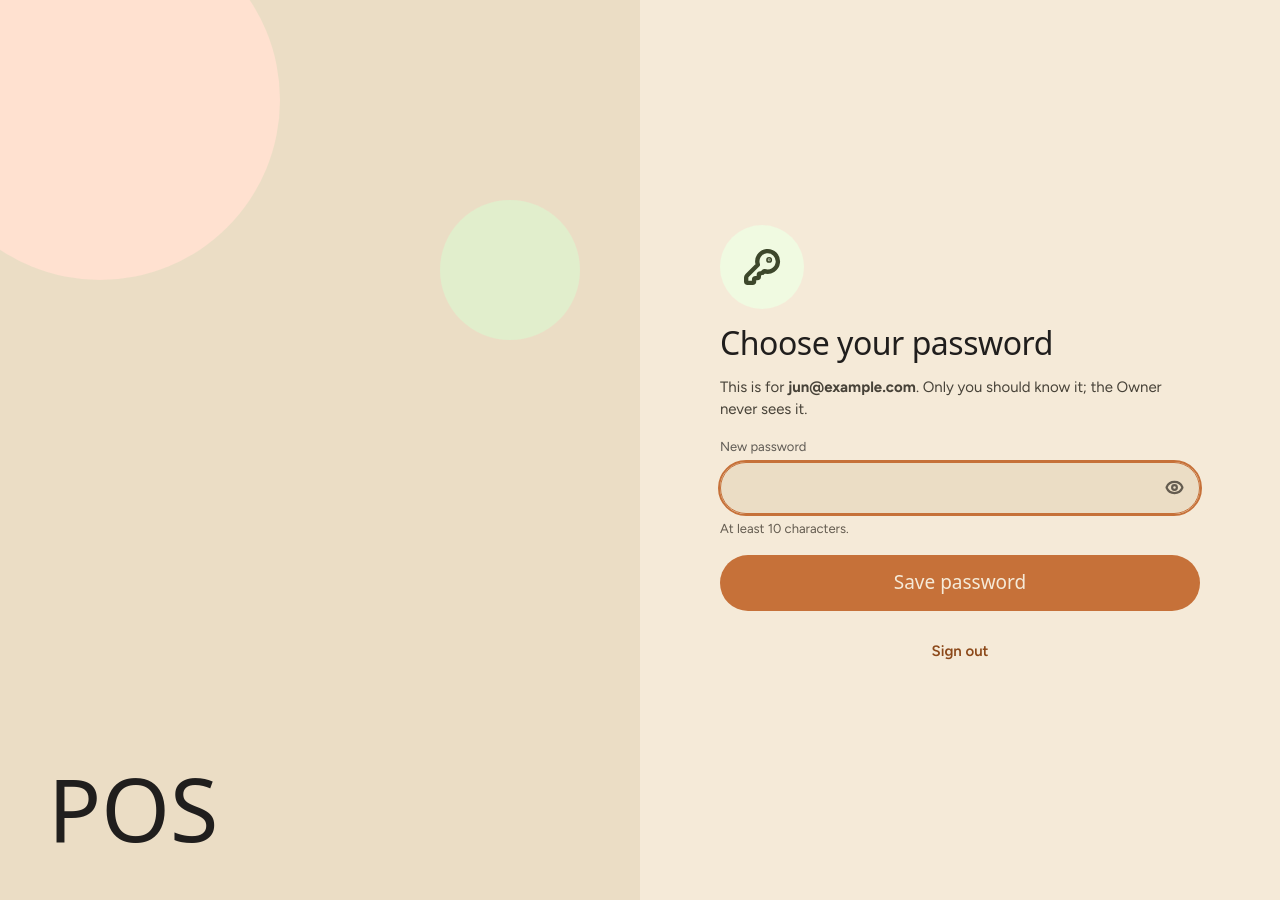
it: a password known from a data breach is refused before it is sent (SEC-05)
The image size is (1280, 900).
Type "password123" into the password field labelled "New password". click: [960, 488]
box: [720,462,1200,514]
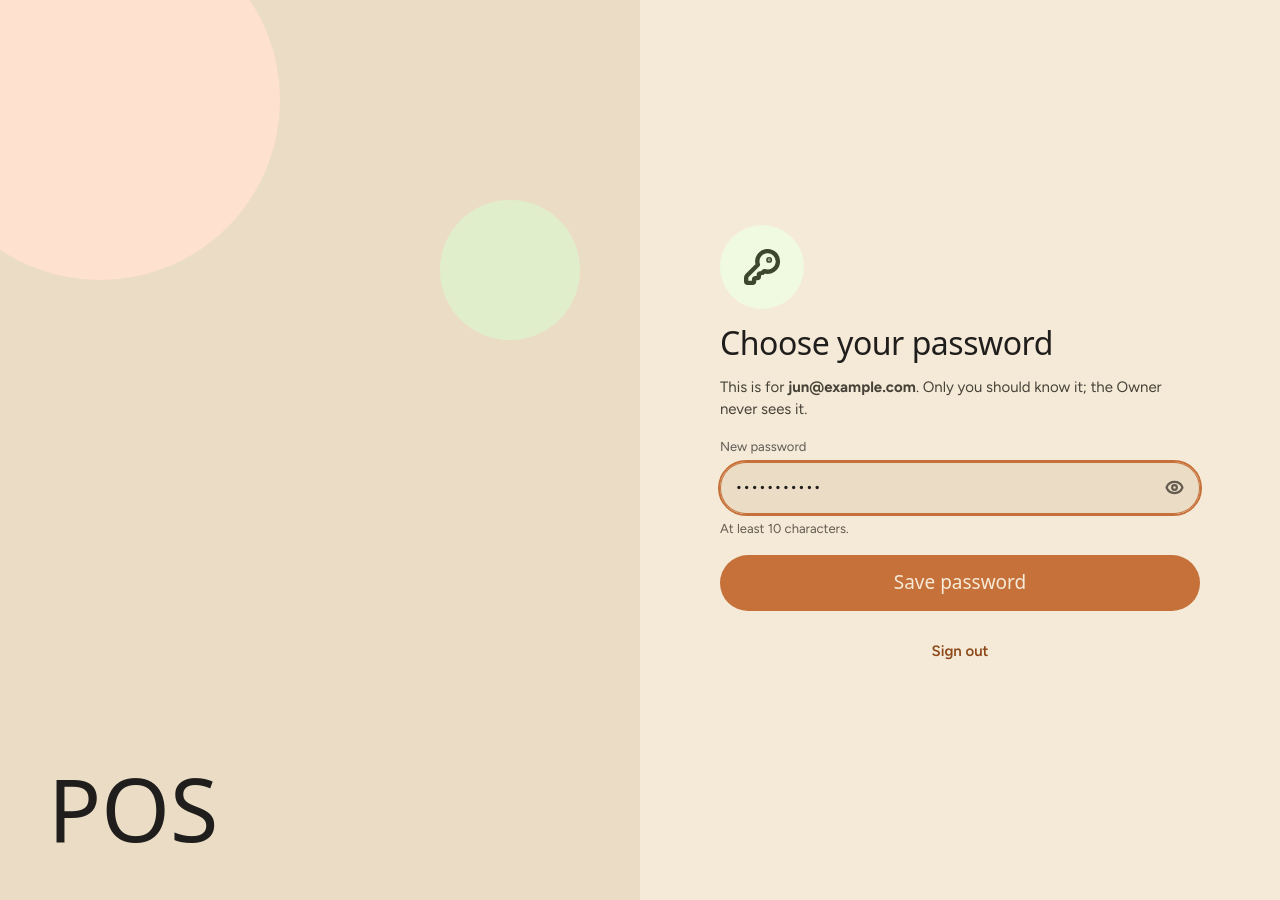
Click the button "Save password". click: [960, 583]
box: [720,555,1200,611]
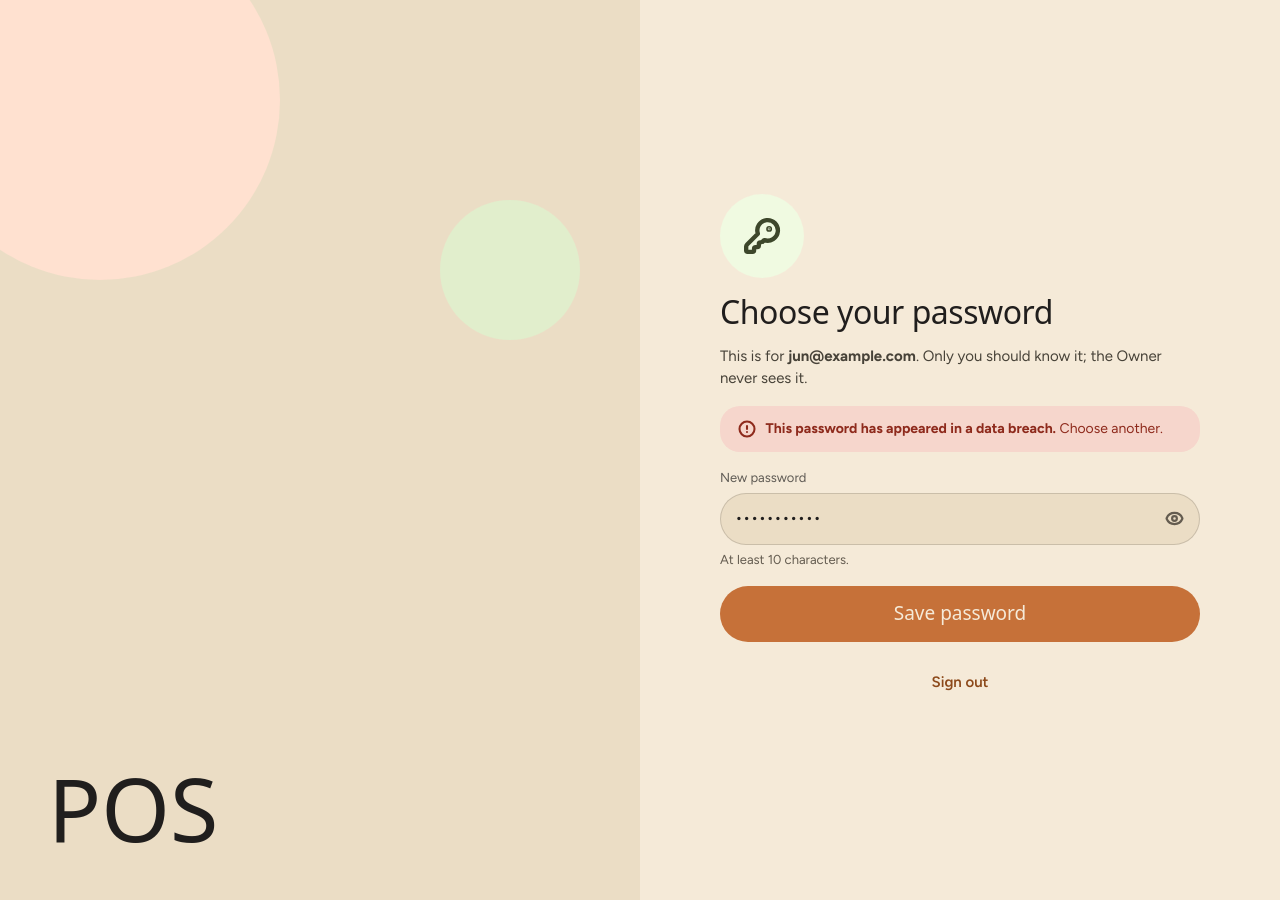
expect the text "This password has appeared in a data breach." is shown: met, box [766,420,1056,437]
expect the text "Choose another." is shown: met, box [1060,420,1163,437]
